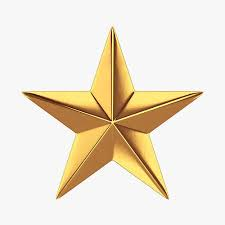star: (18, 23, 205, 200)
